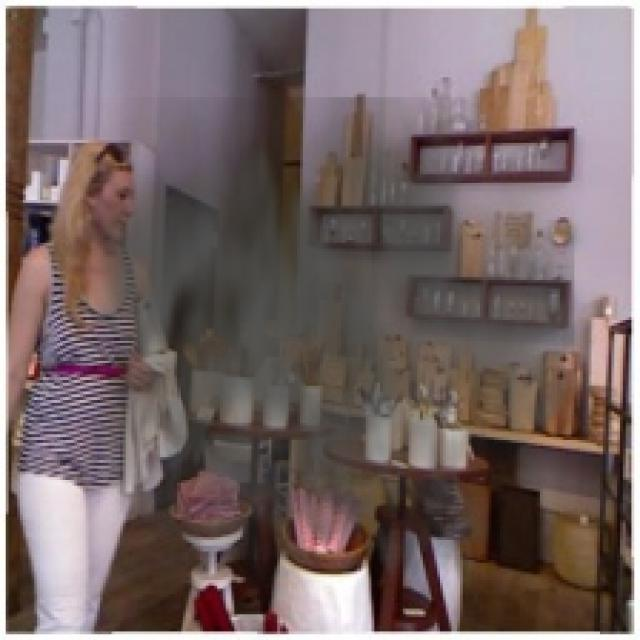smoke: (54, 97, 577, 637)
